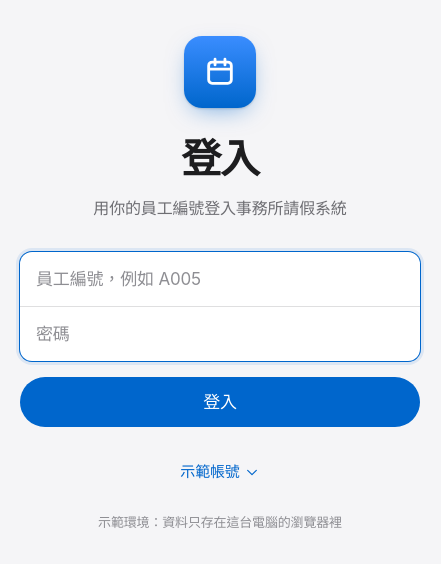
Scenario: app shell › shows an error on a wrong password
Type "A005" into the field labelled "員工編號" at (220, 279), box [20,252,420,306]
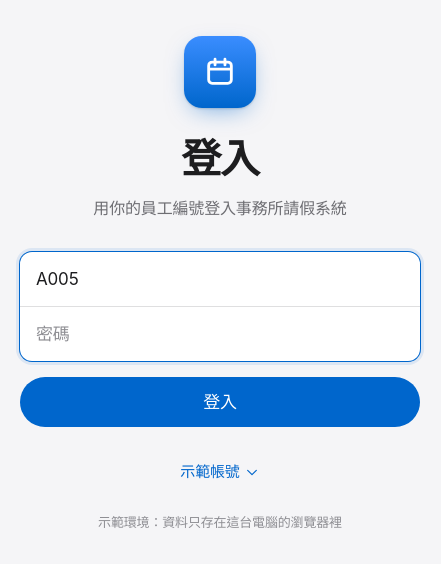
Type "wrong" into the password field labelled "密碼" at (220, 334), box [20,307,420,361]
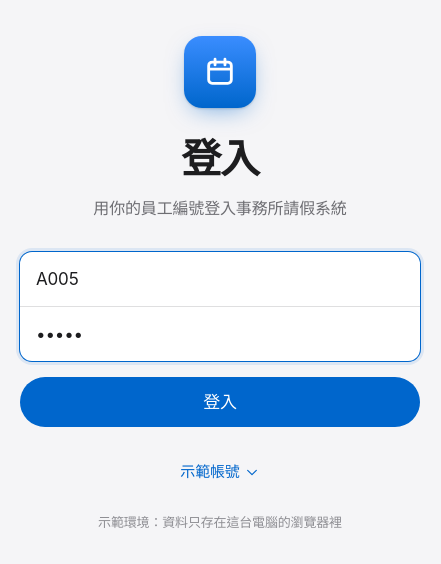
Click the button "登入" at (220, 402), box [20,377,420,427]
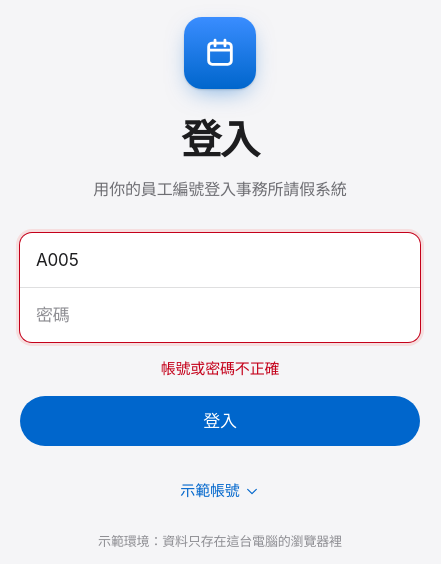
Check: the message reads "帳號或密碼不正確", box [161,359,279,378]
